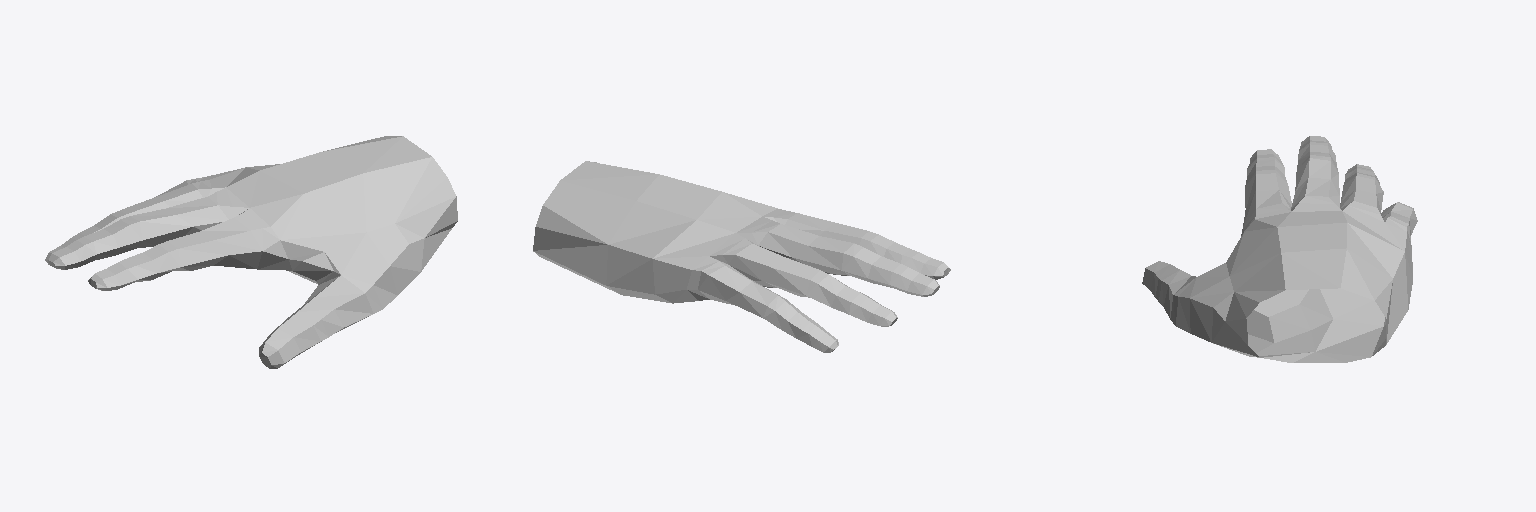
File: RightWrist.obj
The picture shows the model from 3 angles: view 1: azimuth 30°, elevation 25°; view 2: azimuth 150°, elevation 25°; view 3: azimuth 270°, elevation 25°; orthographic projection.
Visible parts, largest first — view 1: polySurface33 polySurface32 polySurface1; view 2: polySurface33 polySurface32 polySurface1; view 3: polySurface33 polySurface32 polySurface1.
Part boxes in pixels (bbox=[...]): polySurface33 polySurface32 polySurface1: bbox=[45, 136, 457, 368]; polySurface33 polySurface32 polySurface1: bbox=[533, 161, 950, 352]; polySurface33 polySurface32 polySurface1: bbox=[1142, 136, 1417, 362].
Size of the model in its own units: 7.86 by 2.25 by 5.02.